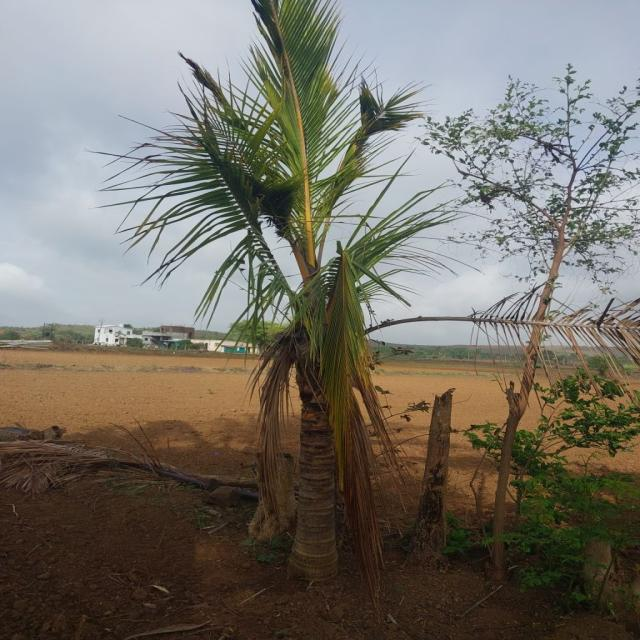bud root dropping: (110, 0, 452, 606)
